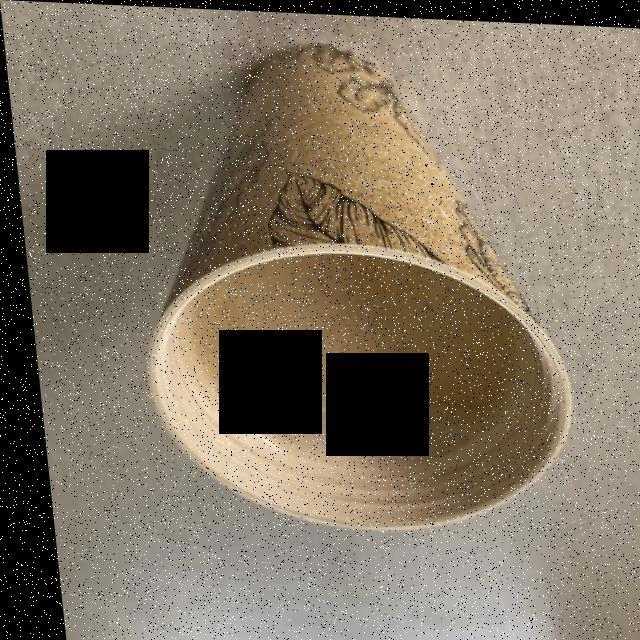coffee: (184, 252, 521, 463)
